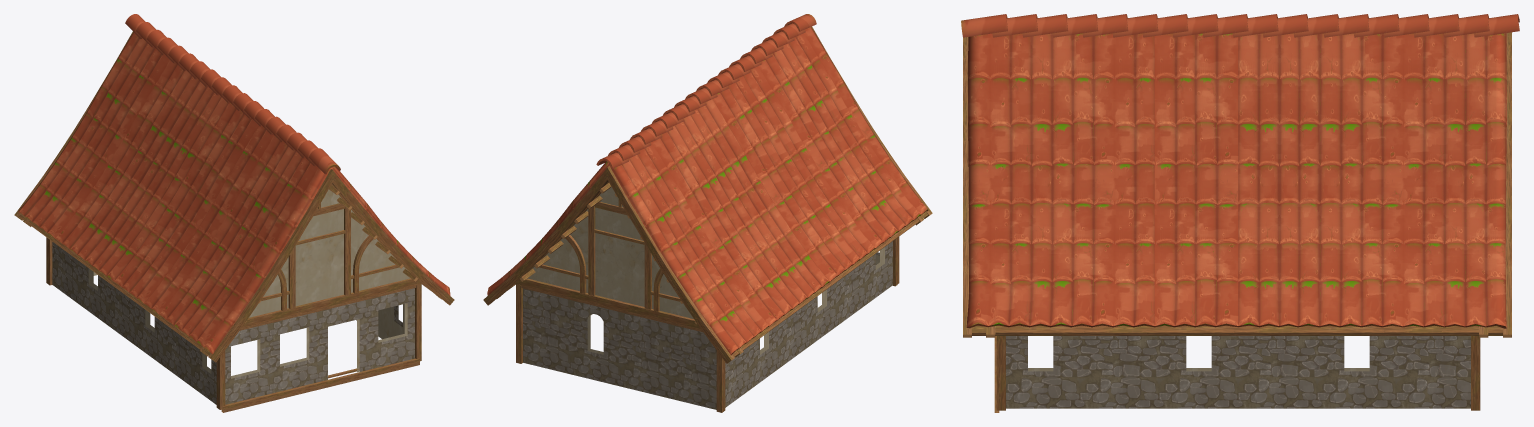
The model's file is shop_weapon_out.gltf.
3 renders of one model, left to right at view 1: azimuth 30°, elevation 25°; view 2: azimuth 150°, elevation 25°; view 3: azimuth 270°, elevation 25°, orthographic. The views are drawn at different scales.
Parts seen in each view (by area): view 1: shop_weapon_out; view 2: shop_weapon_out; view 3: shop_weapon_out.
Part boxes in pixels (left/top/right/bottom): shop_weapon_out: left=14, top=14, right=454, bottom=412; shop_weapon_out: left=483, top=14, right=932, bottom=412; shop_weapon_out: left=961, top=14, right=1519, bottom=412.
Size of the model in its own units: 9.95 by 9.24 by 14.13.
4 materials, 4 textured.
